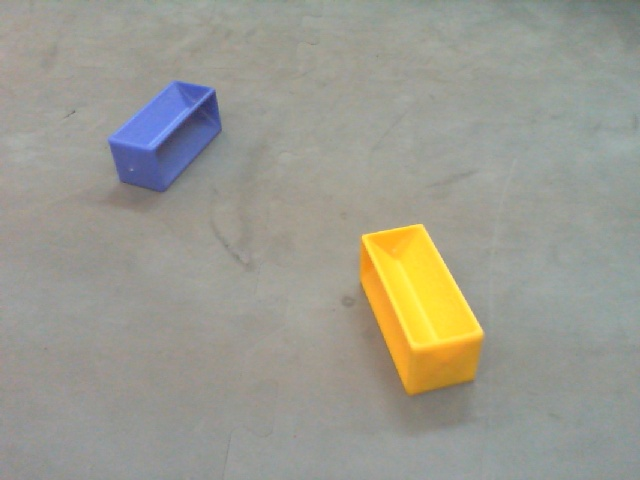BlueSample: (103, 72, 226, 215)
YellowSample: (353, 219, 485, 403)
